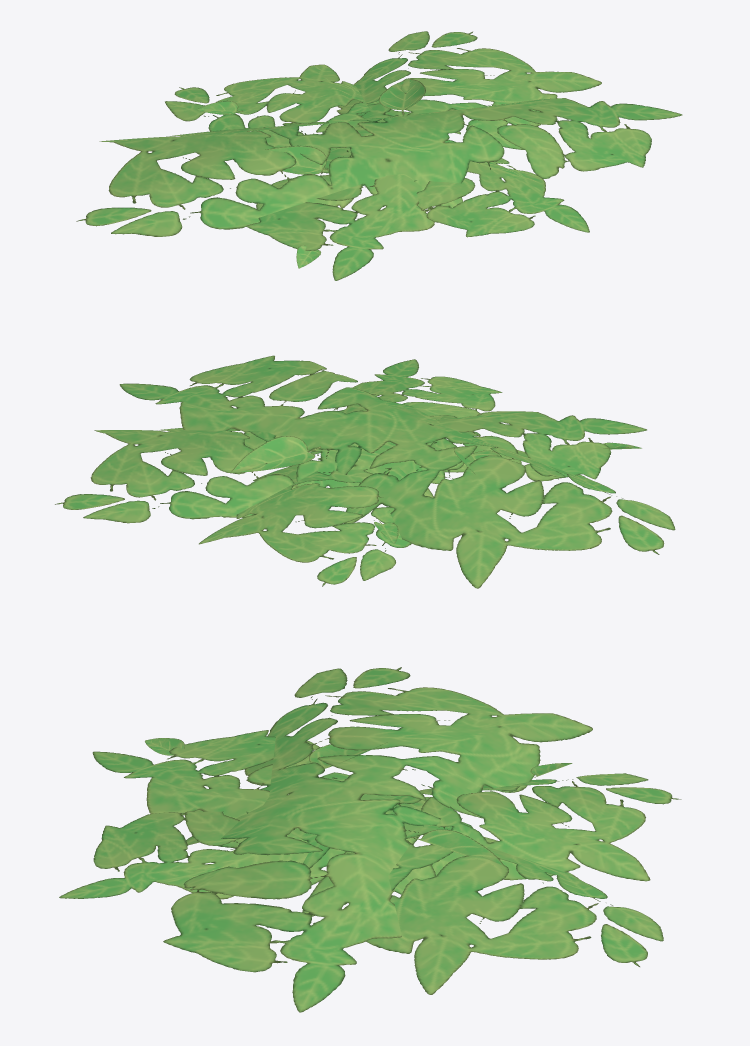
File: LeafSetC_15.fbx
3 renders of one model, top to bottom at view 1: azimuth 30°, elevation 25°; view 2: azimuth 150°, elevation 25°; view 3: azimuth 270°, elevation 25°, orthographic. The views are drawn at different scales.
Parts seen in each view (by area): view 1: LeafSetC_15; view 2: LeafSetC_15; view 3: LeafSetC_15.
Part boxes in pixels (x1,y1,x2,y2): LeafSetC_15: (76, 31, 682, 280); LeafSetC_15: (55, 355, 675, 588); LeafSetC_15: (59, 667, 681, 1012).
Size of the model in its own units: 1.24 by 0.0796 by 0.9824.
